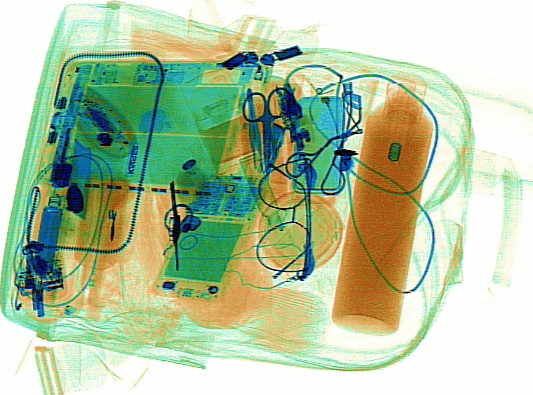scissors: (241, 84, 299, 173)
